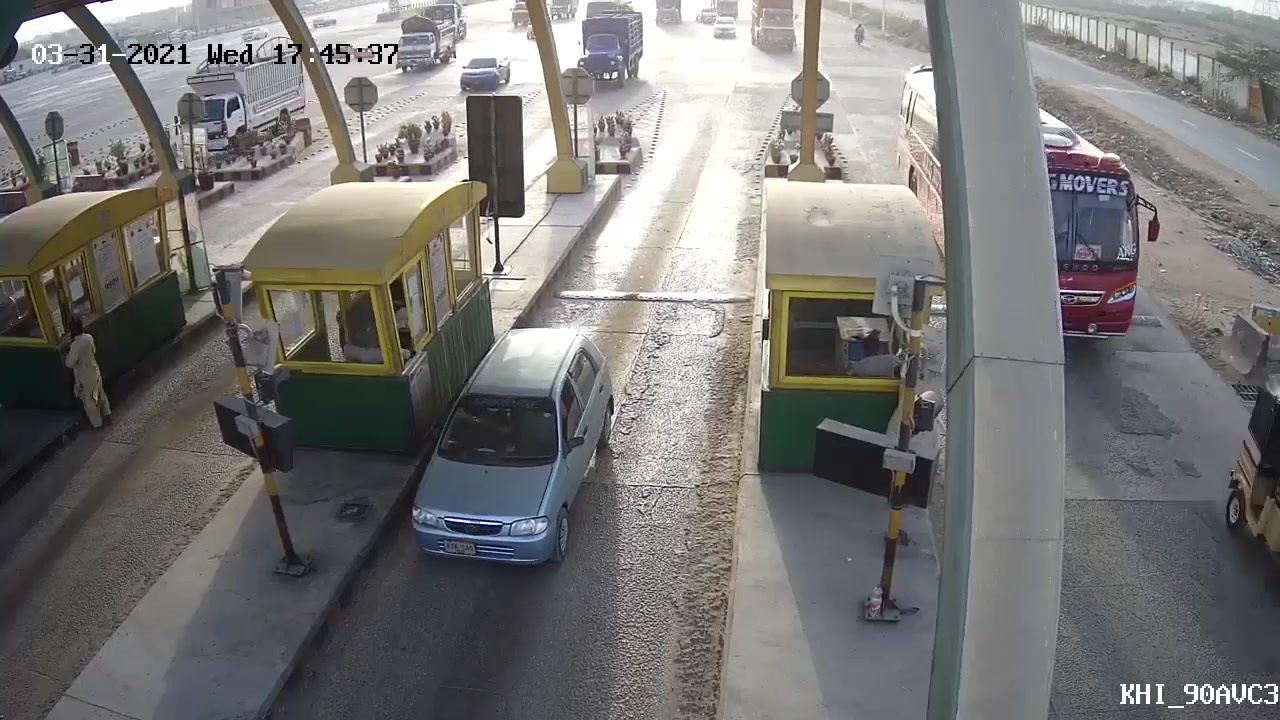F1: (404, 324, 616, 581)
